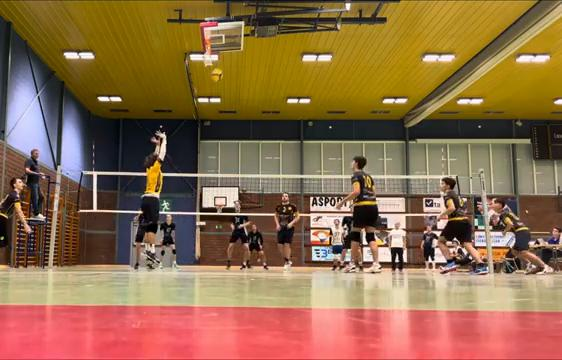alzata: (136, 126, 168, 270)
